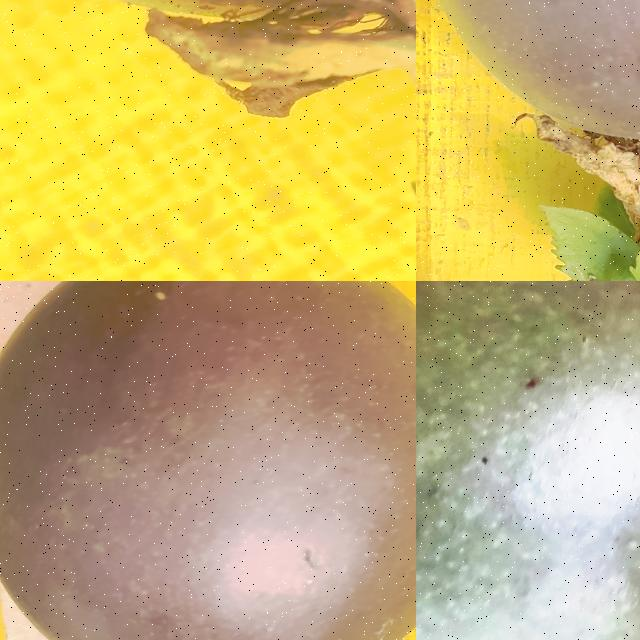Estado-1: (416, 281, 640, 640)
Estado-5: (0, 281, 416, 640)
